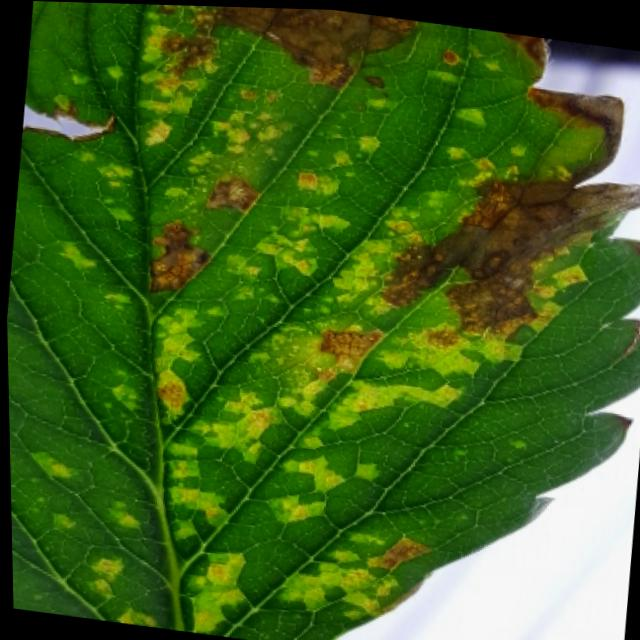Angular Leafspot: (11, 1, 640, 640)
